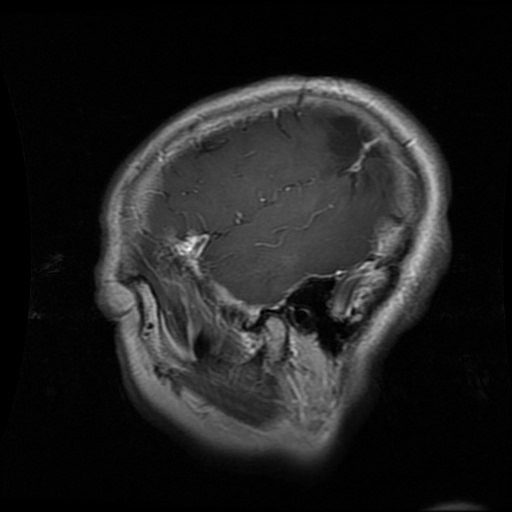glioma: (330, 115, 385, 194)
